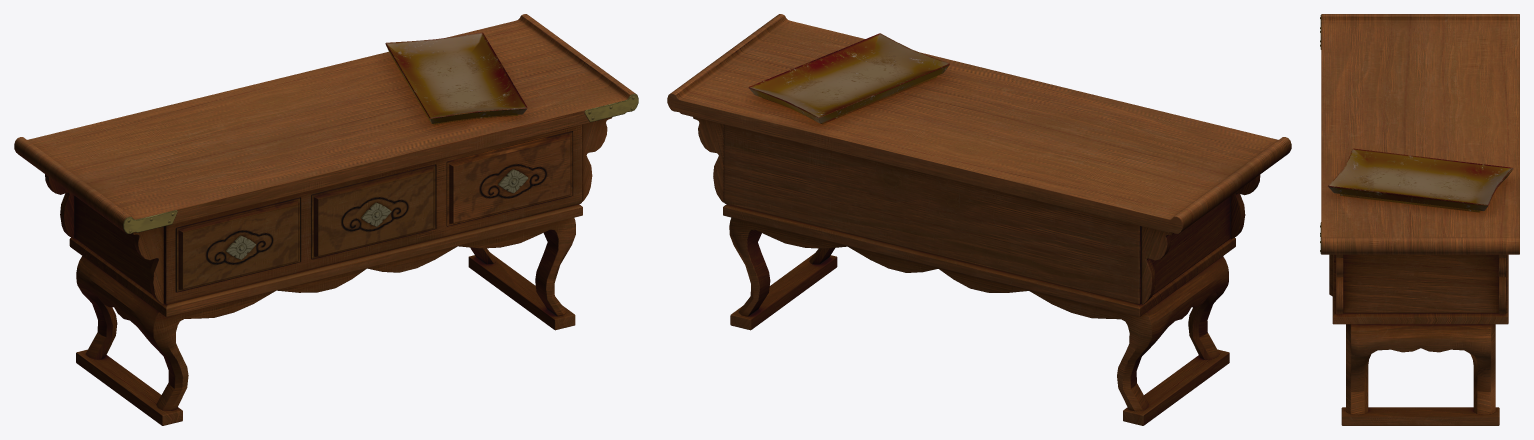
File: TraditionalKoreanHouse_Tray.fbx
3 renders of one model, left to right at view 1: azimuth 30°, elevation 25°; view 2: azimuth 150°, elevation 25°; view 3: azimuth 270°, elevation 25°, orthographic. The views are drawn at different scales.
Parts seen in each view (by area): view 1: TraditionalKoreanHouse_Tray; view 2: TraditionalKoreanHouse_Tray; view 3: TraditionalKoreanHouse_Tray.
Boxes of the visible parts, x1,y1,x2,y2 form: TraditionalKoreanHouse_Tray: (14,14,638,425); TraditionalKoreanHouse_Tray: (667,14,1291,425); TraditionalKoreanHouse_Tray: (1320,14,1519,425).
Bounding box in the file's own units: 104 × 45.59 × 38.25.
